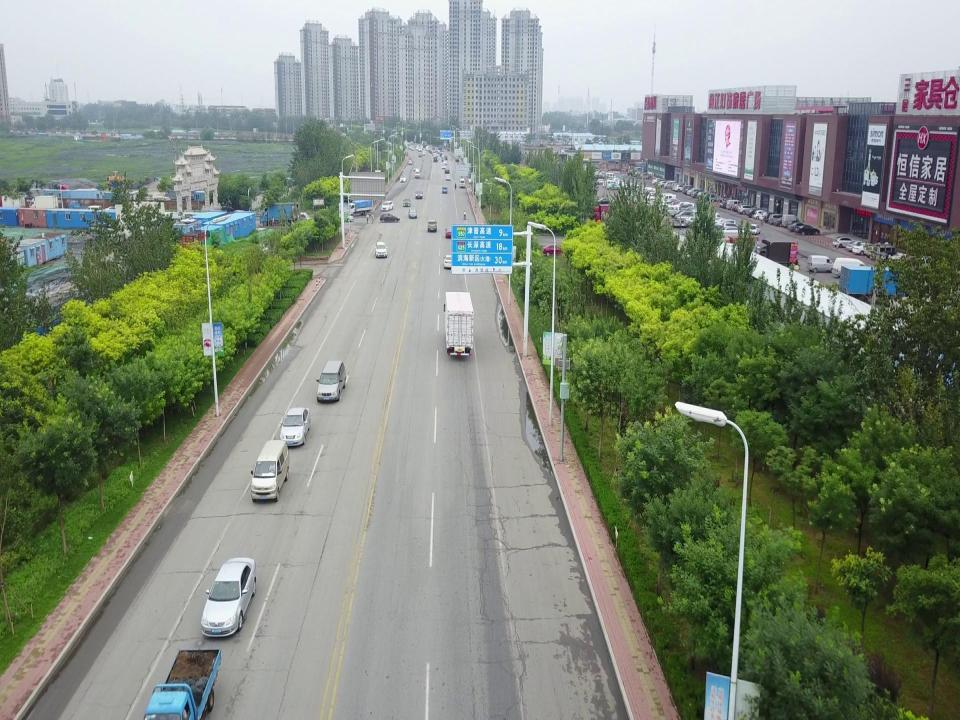car: (200, 558, 258, 638), (280, 406, 311, 446), (542, 243, 565, 256), (832, 235, 854, 248), (852, 242, 874, 255), (794, 224, 820, 235), (889, 252, 909, 266), (846, 240, 867, 252), (374, 241, 388, 258), (380, 212, 400, 222), (787, 222, 807, 232), (720, 222, 740, 232), (443, 254, 455, 269), (763, 212, 779, 223), (773, 217, 791, 226), (738, 205, 755, 214), (337, 213, 354, 222), (748, 223, 760, 235), (104, 205, 120, 214), (427, 219, 437, 233), (721, 198, 735, 208), (380, 200, 394, 210), (732, 203, 748, 211), (753, 210, 767, 219), (444, 227, 454, 239), (746, 209, 762, 216), (702, 194, 716, 202), (690, 190, 704, 198), (759, 212, 771, 221), (408, 208, 417, 219), (606, 183, 620, 190), (718, 198, 730, 206), (674, 184, 686, 192), (604, 180, 617, 187), (687, 189, 700, 196), (658, 180, 669, 187), (602, 181, 614, 187), (683, 188, 695, 194), (415, 190, 423, 199), (698, 192, 708, 199), (403, 197, 410, 207), (652, 178, 662, 184), (596, 180, 606, 185), (442, 186, 448, 193), (445, 174, 451, 181), (400, 175, 406, 182), (444, 168, 450, 173), (408, 159, 412, 165), (413, 166, 417, 171), (443, 160, 447, 165), (442, 164, 446, 169), (433, 159, 437, 162), (441, 159, 445, 162), (455, 159, 459, 162)
truck: (142, 646, 221, 720), (837, 264, 908, 302), (443, 291, 474, 356), (753, 238, 799, 269), (259, 202, 300, 226), (589, 204, 625, 225), (29, 195, 59, 213), (723, 234, 759, 248), (715, 229, 747, 244), (346, 199, 372, 216), (0, 195, 26, 211), (68, 200, 88, 212)
van: (250, 439, 290, 502), (316, 360, 346, 401), (832, 257, 868, 278), (806, 256, 834, 274), (870, 242, 896, 261), (878, 249, 900, 263), (781, 214, 801, 228), (292, 212, 311, 224), (768, 214, 786, 224), (726, 199, 741, 210), (86, 206, 102, 214), (671, 184, 685, 192), (664, 181, 676, 189), (682, 185, 694, 192), (692, 188, 702, 196), (657, 179, 667, 185), (670, 183, 680, 189), (459, 178, 465, 188), (414, 169, 420, 178)
